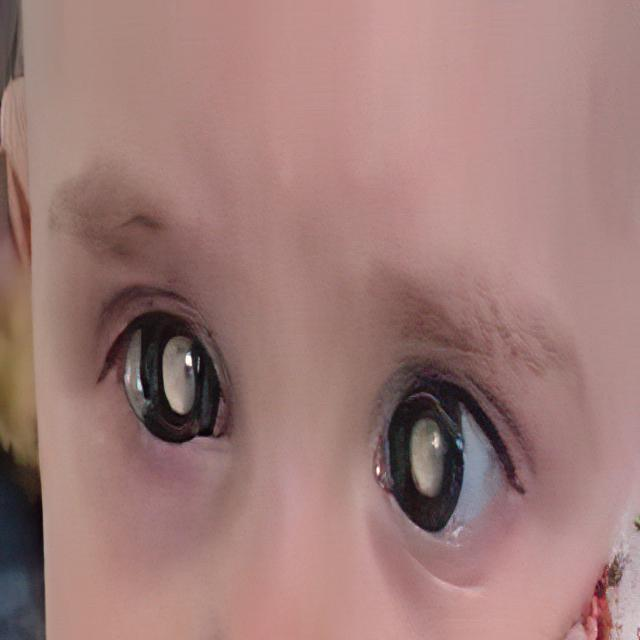reflexo-alterado: (356, 300, 520, 592), (93, 275, 250, 484)
